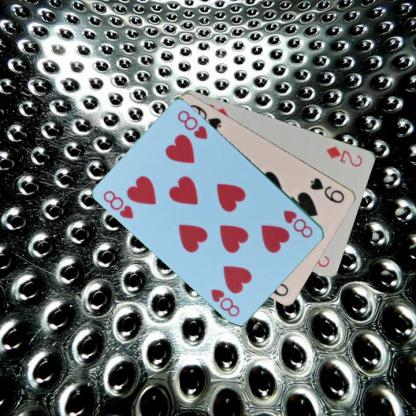2d: (324, 143, 364, 168)
8h: (101, 188, 135, 220), (281, 208, 314, 240)
9s: (308, 175, 346, 205)
